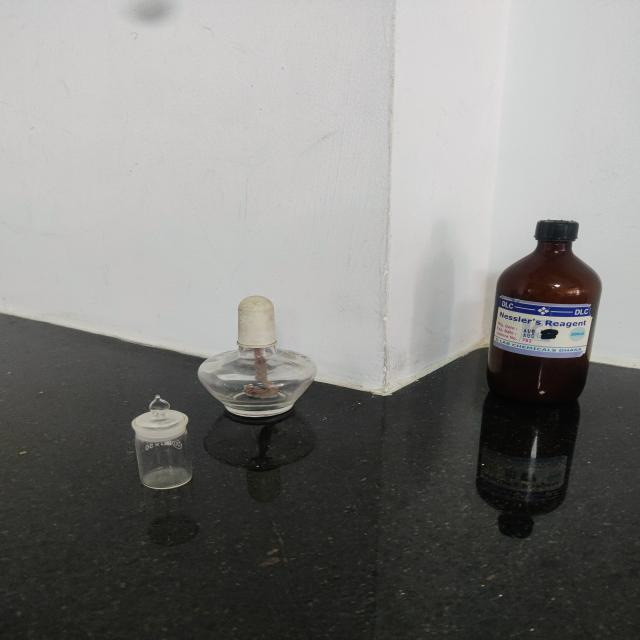Nessler_Reagent_Bottle: (469, 217, 614, 398)
Spirit_Lamp: (188, 289, 317, 418)
Weighing_Bottle: (119, 384, 205, 501)
